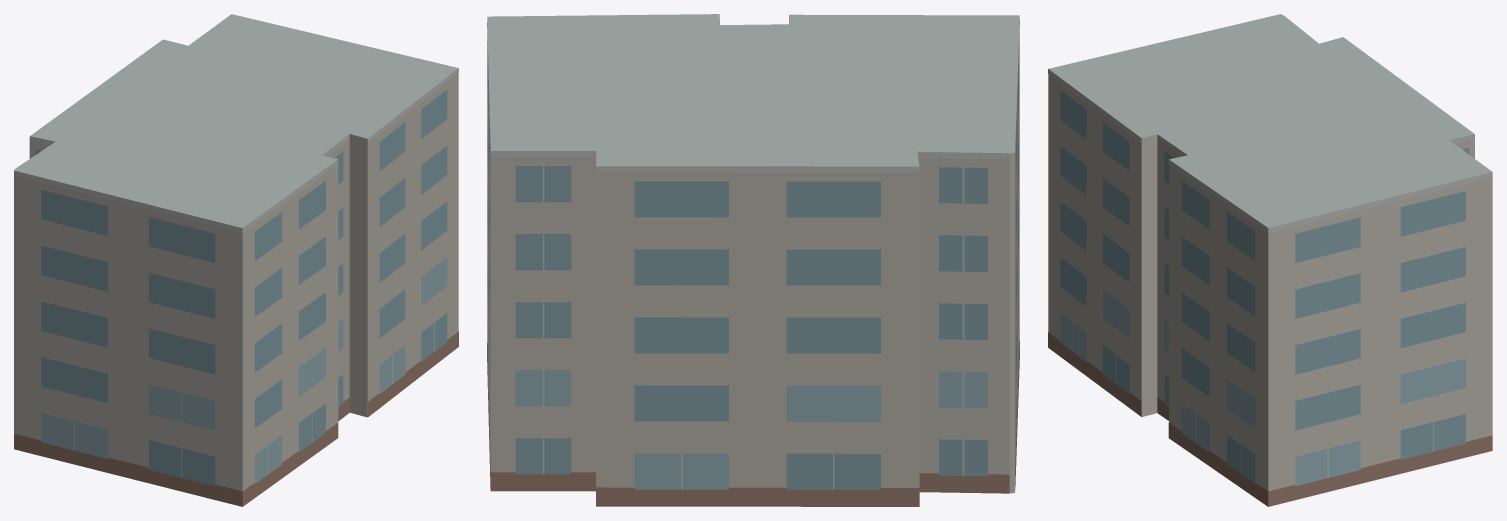
Rendered from survey-upis-32721936.glb.
3 renders of one model, left to right at view 1: azimuth 30°, elevation 25°; view 2: azimuth 150°, elevation 25°; view 3: azimuth 270°, elevation 25°, orthographic. The views are drawn at different scales.
Visible parts, largest first — view 1: survey-upis-32721936.tmp; view 2: survey-upis-32721936.tmp; view 3: survey-upis-32721936.tmp.
Boxes of the visible parts, x1,y1,x2,y2 form: survey-upis-32721936.tmp: (14,14,458,506); survey-upis-32721936.tmp: (487,14,1019,506); survey-upis-32721936.tmp: (1048,14,1492,506).
Size of the model in its own units: 22.24 by 13.5 by 19.52.
